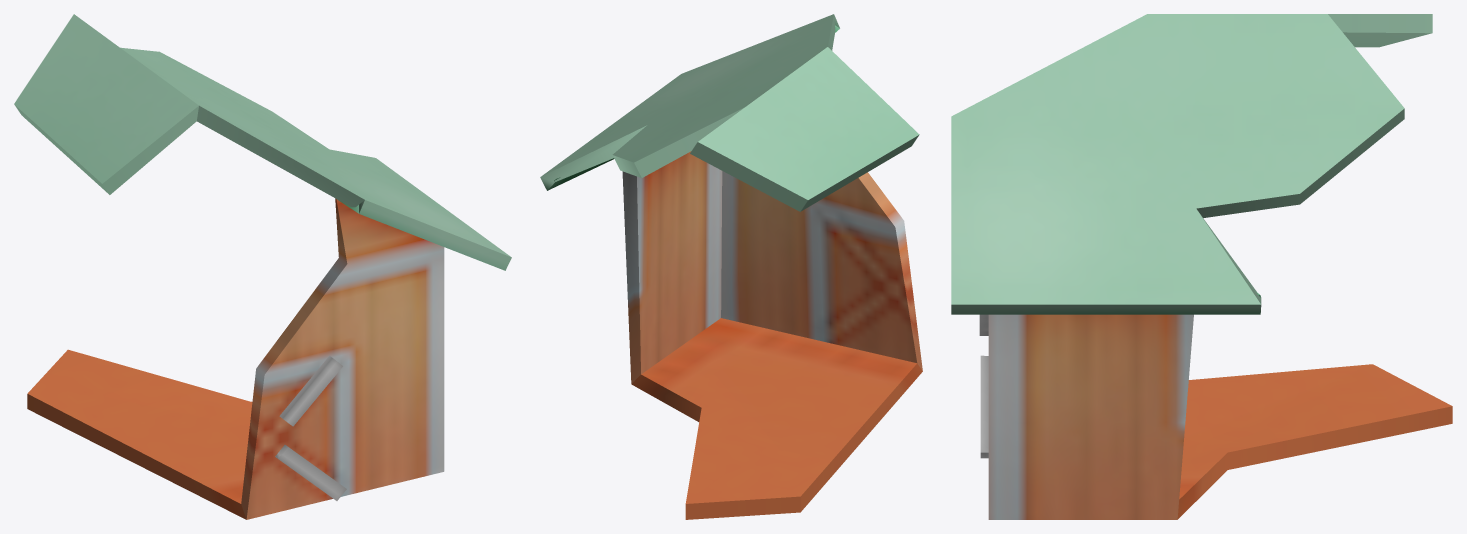
The model's file is B4Broke02.FBX.
3 renders of one model, left to right at view 1: azimuth 30°, elevation 25°; view 2: azimuth 150°, elevation 25°; view 3: azimuth 270°, elevation 25°, orthographic. The views are drawn at different scales.
Visible parts, largest first — view 1: B4Broke02; view 2: B4Broke02; view 3: B4Broke02.
Part boxes in pixels (<box>): B4Broke02: <box>14,14,511,519</box>; B4Broke02: <box>540,14,922,519</box>; B4Broke02: <box>951,14,1452,519</box>.
Bounding box in the file's own units: 50.88 × 54.49 × 60.65.
